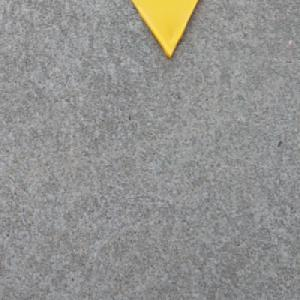PlasticPart: (129, 0, 200, 59)
